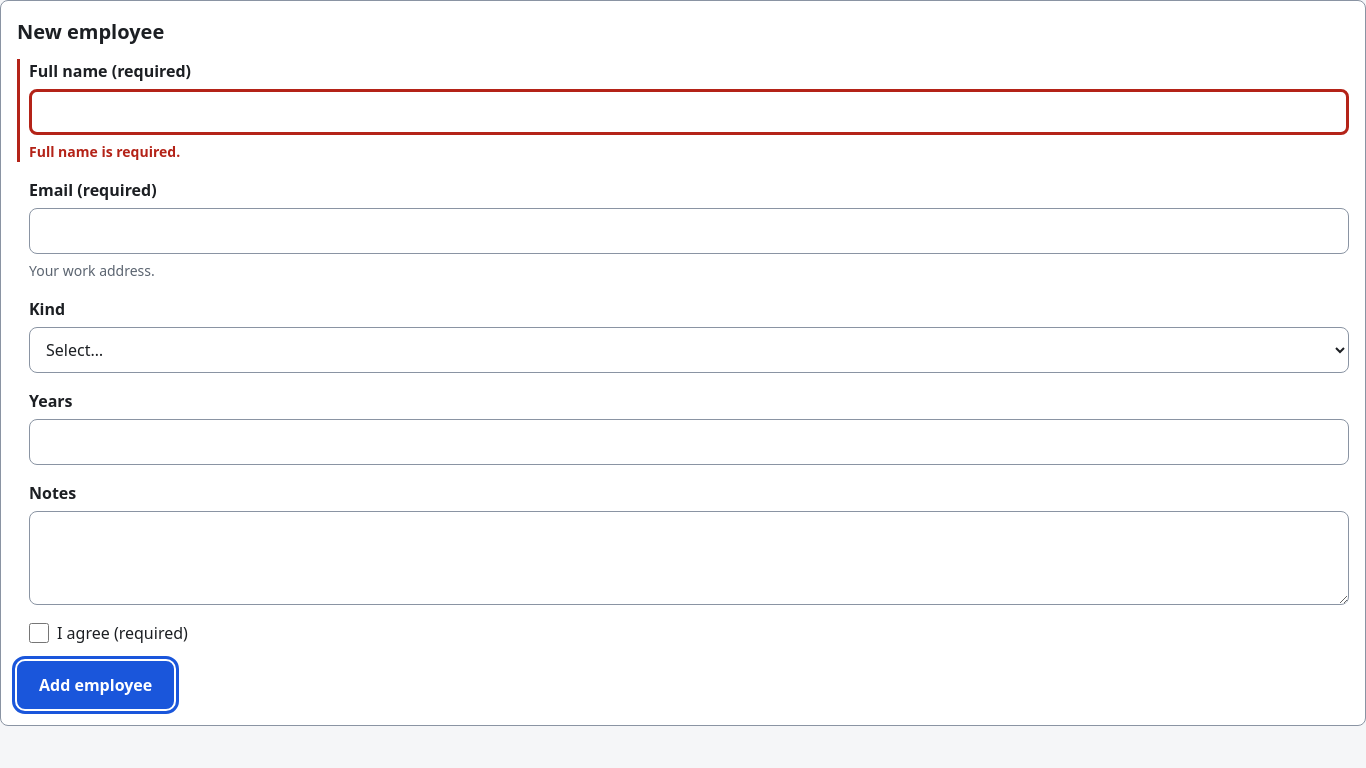
Scenario: Form: when a field is checked › checks a field with an error on every change, so the error goes away as soon as it is fixed
The image size is (1366, 768).
Expected: the text "Full name is required." is shown, 29,142 -> 180,161
Type "A" into the field labelled "Full name" at [689, 112], box 29,89 -> 1349,135
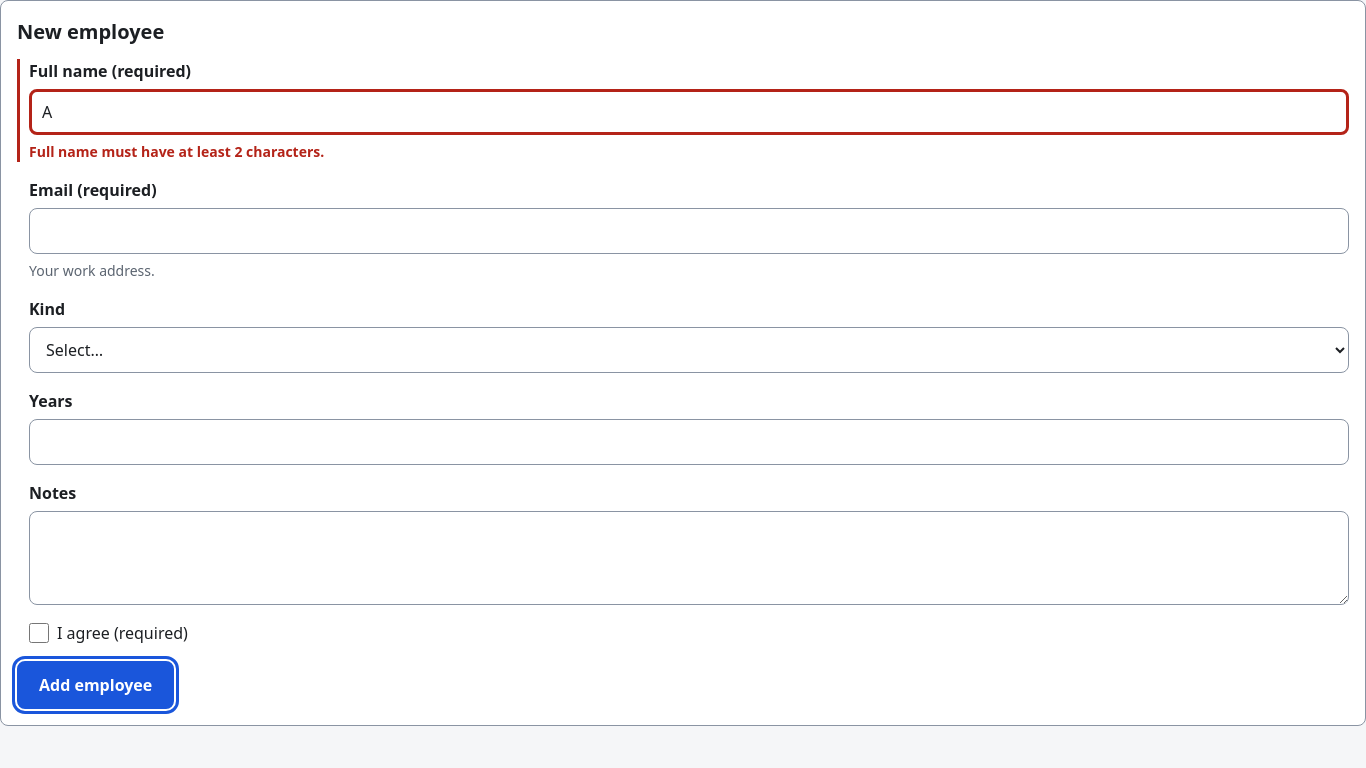
Now the text "Full name must have at least 2 characters." is shown, box 29,142 -> 324,161
Replace the text in the field labelled "Full name" with "Asha" at [689, 112], box 29,89 -> 1349,135
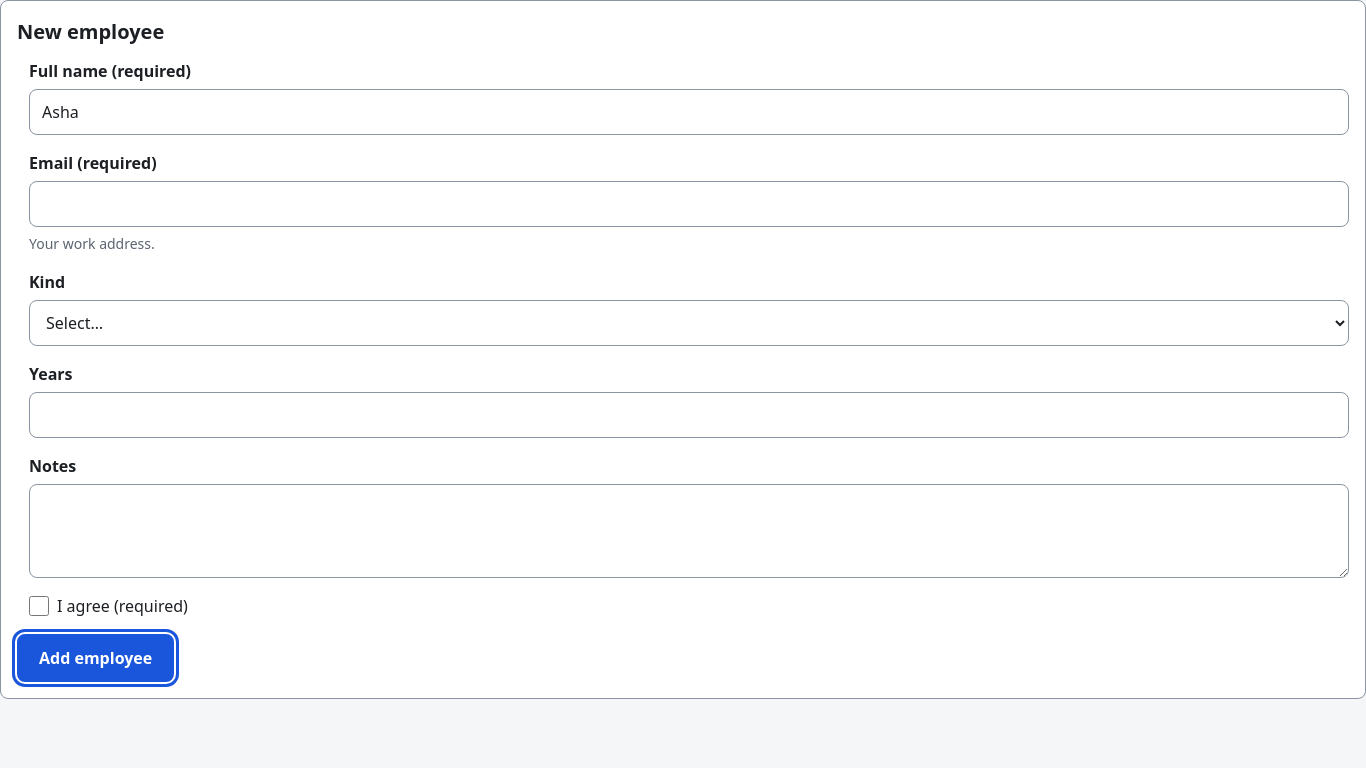
Now the text "Full name must" is gone
